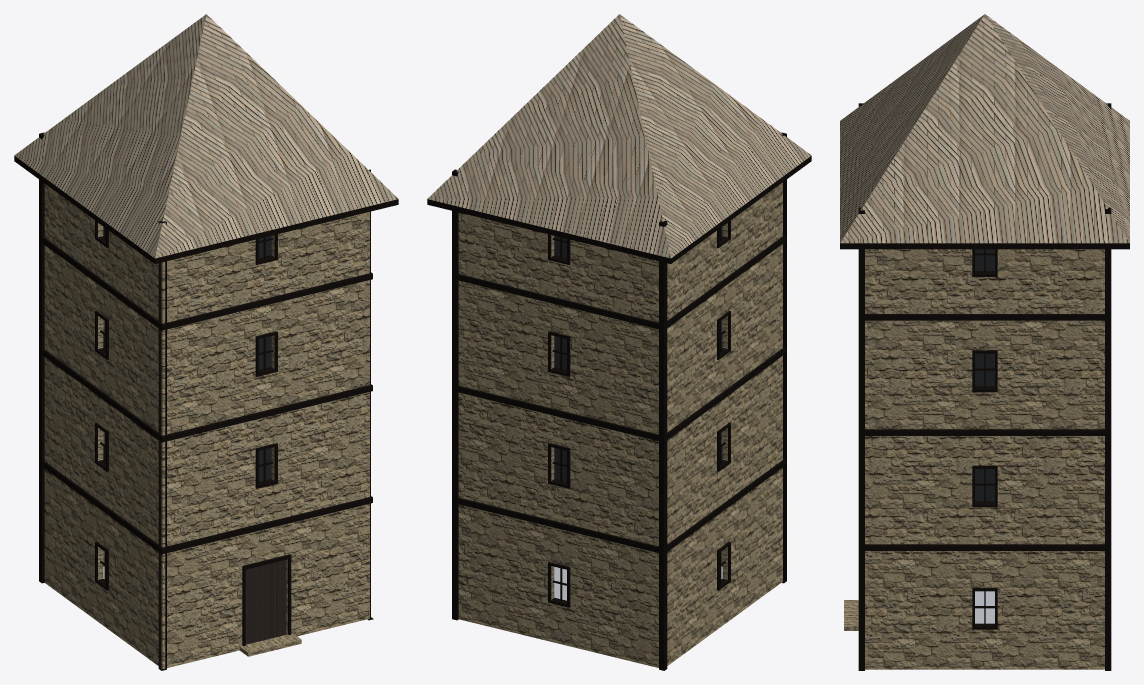
Rendered from stone_tower_01.glb.
3 views of the same model, side by side, from view 1: azimuth 30°, elevation 25°; view 2: azimuth 150°, elevation 25°; view 3: azimuth 270°, elevation 25° (orthographic). The views are drawn at different scales.
Parts seen in each view (by area): view 1: stone_tower_01; view 2: stone_tower_01; view 3: stone_tower_01.
Part boxes in pixels (x1=…): stone_tower_01: x1=14, y1=14, x2=398, y2=670; stone_tower_01: x1=427, y1=14, x2=811, y2=670; stone_tower_01: x1=840, y1=14, x2=1129, y2=670.
Bounding box in the file's own units: 7.3 × 16.77 × 7.3.
5 materials, 4 textured.
